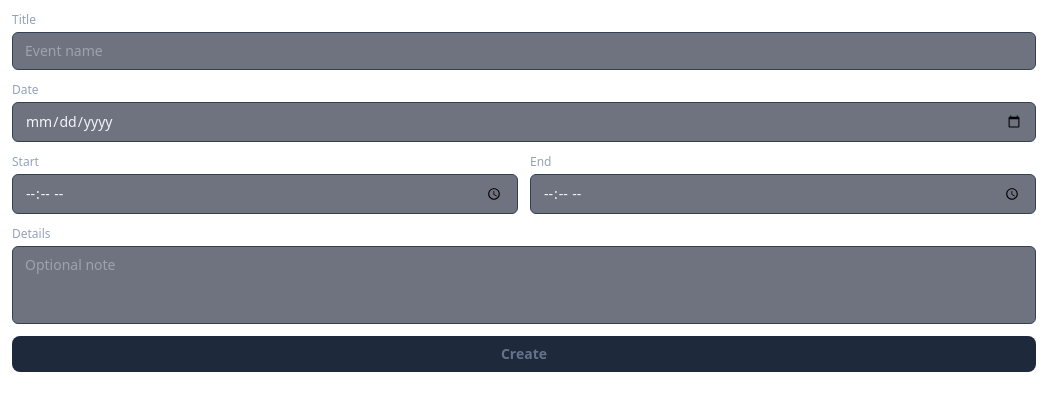
CalendarForm › blocks submit when end <= start and shows a warning
The width and height of the screenshot is (1048, 417).
Type "x" into the field with test id "field-title" at [524, 51], box [12, 32, 1036, 70]
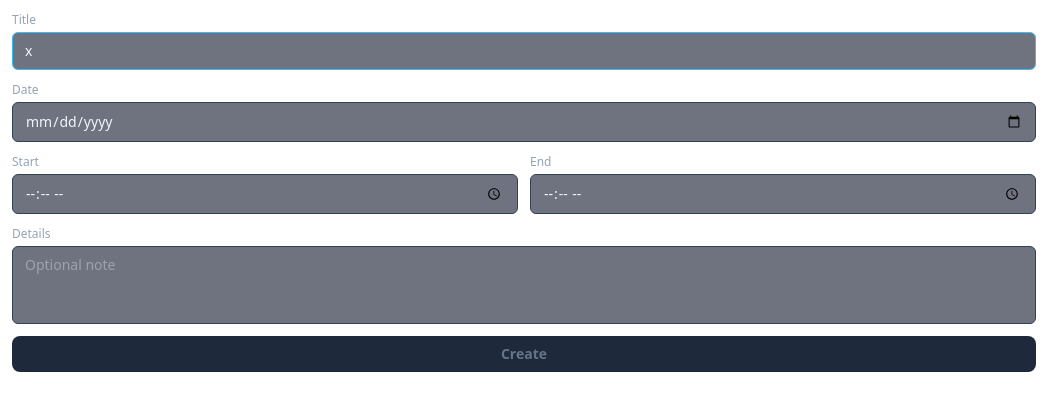
Type "2026-05-01" into the date field with test id "field-date" at [524, 122], box [12, 102, 1036, 142]
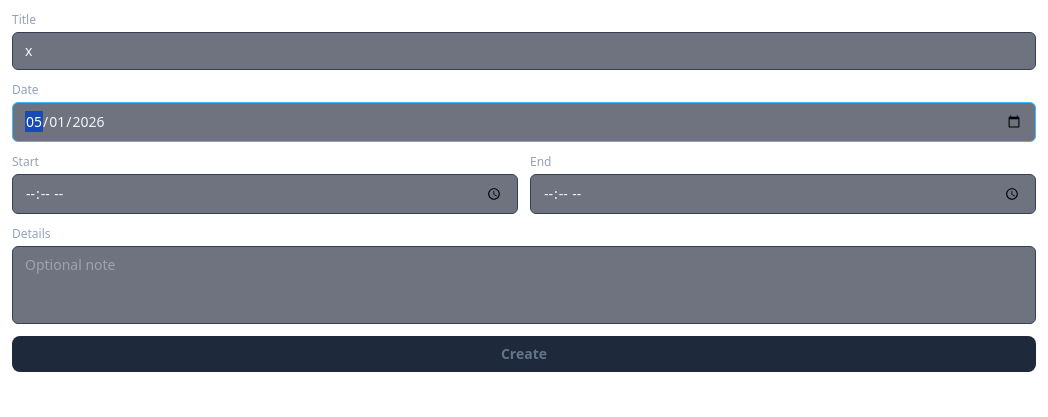
Type "11:00" into the time field with test id "field-start" at [265, 194], box [12, 174, 518, 214]
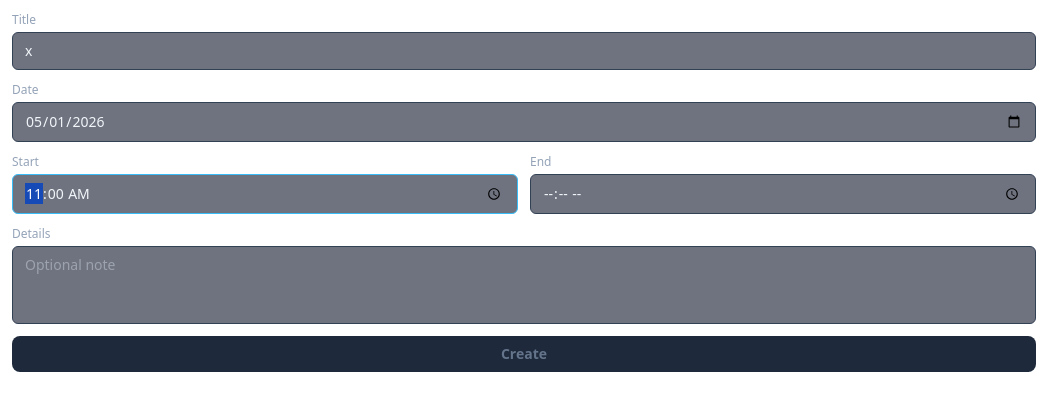
Type "10:00" into the time field with test id "field-end" at [783, 194], box [530, 174, 1036, 214]
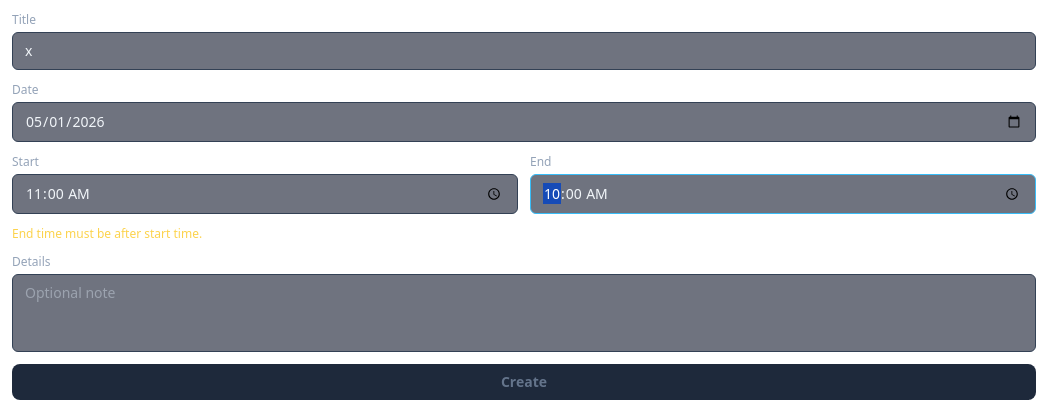
Expected: the button with test id "calendar-submit" is disabled, [12, 364, 1036, 400]
Expected: the text "End time must be after start time." is shown, [12, 225, 202, 242]
